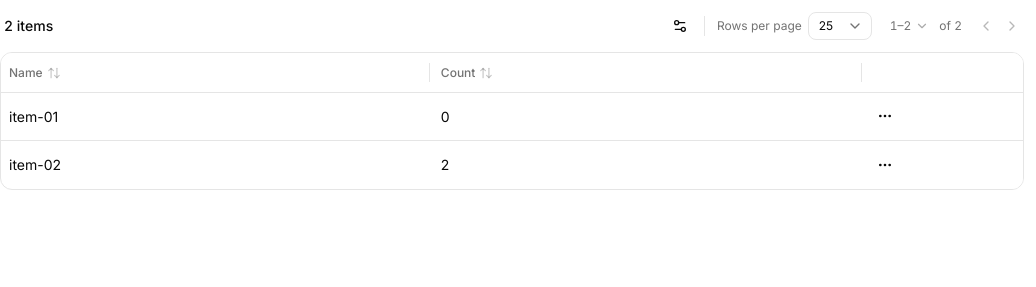
Test case: DataTable › row actions › honours hidden, disabled and separatorBefore
The width and height of the screenshot is (1036, 287).
Click the button named "Actions for item-01": (885, 116) [873,104,897,128]
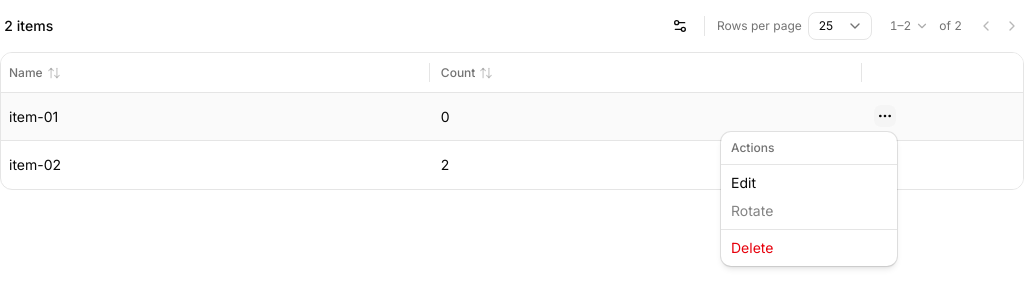
Now the menu item "Edit" is shown, box [731,174,756,191]
